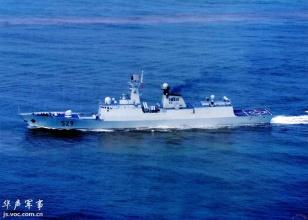warship: (14, 75, 275, 133)
